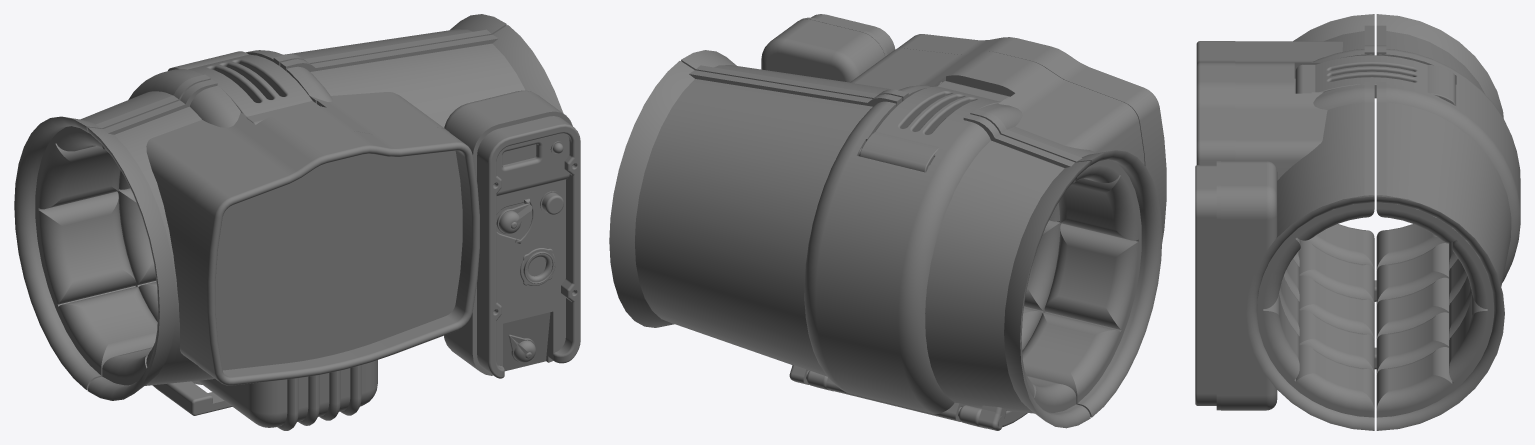
File: Concept Pip Boy.glb
3 views of the same model, side by side, from view 1: azimuth 30°, elevation 25°; view 2: azimuth 150°, elevation 25°; view 3: azimuth 270°, elevation 25° (orthographic). The views are drawn at different scales.
Parts seen in each view (by area): view 1: mesh_id28, mesh_id47, mesh_id29, mesh_id70, mesh_id38, mesh_id35, mesh_id72, mesh_id46, mesh_id41, mesh_id34, mesh_id37, mesh_id52 (+7 smaller); view 2: mesh_id47, mesh_id48, mesh_id70, mesh_id38, mesh_id29, mesh_id72, mesh_id41, mesh_id35, mesh_id74, mesh_id69, mesh_id52; view 3: mesh_id70, mesh_id47, mesh_id41, mesh_id38, mesh_id48, mesh_id35, mesh_id29, mesh_id72, mesh_id69, mesh_id52.
Boxes of the visible parts, bbox=[...] form: mesh_id28: bbox=[215, 150, 462, 370]; mesh_id47: bbox=[14, 14, 563, 400]; mesh_id29: bbox=[188, 127, 565, 385]; mesh_id70: bbox=[35, 126, 158, 385]; mesh_id38: bbox=[146, 92, 449, 365]; mesh_id35: bbox=[470, 109, 580, 378]; mesh_id72: bbox=[168, 51, 319, 124]; mesh_id46: bbox=[198, 360, 377, 427]; mesh_id41: bbox=[444, 90, 561, 371]; mesh_id34: bbox=[491, 127, 579, 375]; mesh_id37: bbox=[496, 134, 571, 370]; mesh_id52: bbox=[189, 67, 350, 423]; mesh_id47: bbox=[609, 50, 1162, 428]; mesh_id48: bbox=[804, 101, 990, 421]; mesh_id70: bbox=[1021, 159, 1141, 412]; mesh_id38: bbox=[850, 48, 1144, 164]; mesh_id29: bbox=[897, 34, 1166, 243]; mesh_id72: bbox=[858, 81, 1010, 172]; mesh_id41: bbox=[761, 19, 885, 82]; mesh_id35: bbox=[796, 14, 895, 56]; mesh_id74: bbox=[806, 370, 1027, 428]; mesh_id69: bbox=[789, 85, 1006, 430]; mesh_id52: bbox=[905, 86, 1022, 129]; mesh_id70: bbox=[1257, 202, 1493, 417]; mesh_id47: bbox=[1246, 14, 1511, 430]; mesh_id41: bbox=[1221, 161, 1277, 410]; mesh_id38: bbox=[1235, 41, 1342, 180]; mesh_id48: bbox=[1376, 49, 1520, 282]; mesh_id35: bbox=[1195, 161, 1220, 410]; mesh_id29: bbox=[1196, 41, 1235, 164]; mesh_id72: bbox=[1295, 55, 1455, 105]; mesh_id69: bbox=[1313, 54, 1374, 109]; mesh_id52: bbox=[1313, 49, 1371, 97].
Bounding box in the file's own units: 0.512 × 0.3499 × 0.3863.
48 materials, 48 textured.
